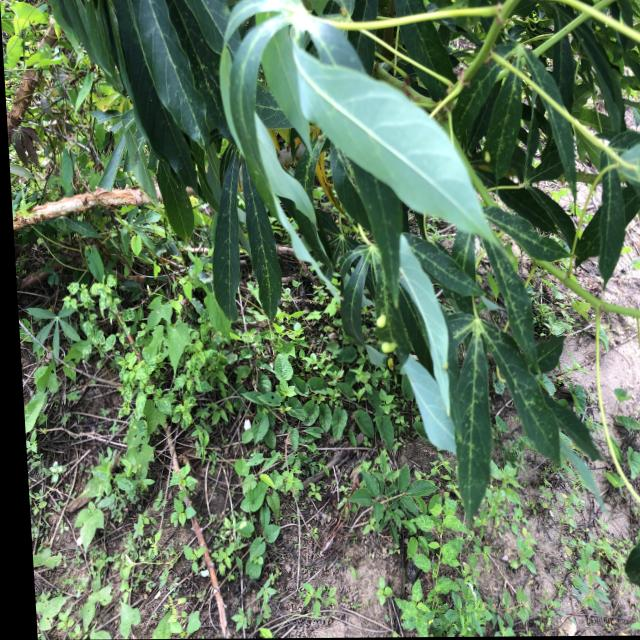Maleza: (61, 295, 328, 571)
Mosca: (369, 306, 395, 339), (379, 333, 400, 368)
